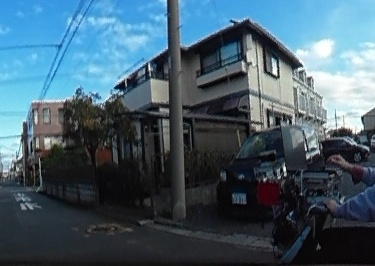person: (321, 70, 375, 266)
